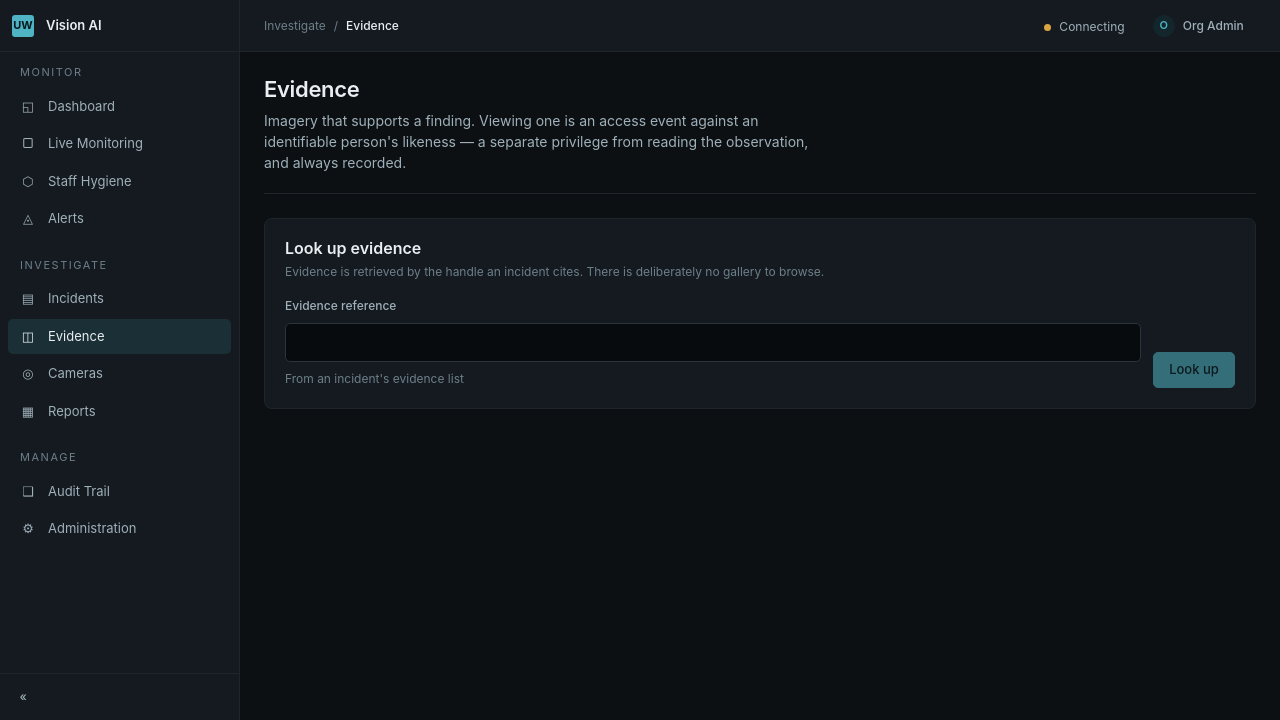
Test case: the evidence page › requires a reason before it will erase
In the field labelled "Evidence reference": point(713, 342) [285,323,1141,362], type "ev-1"
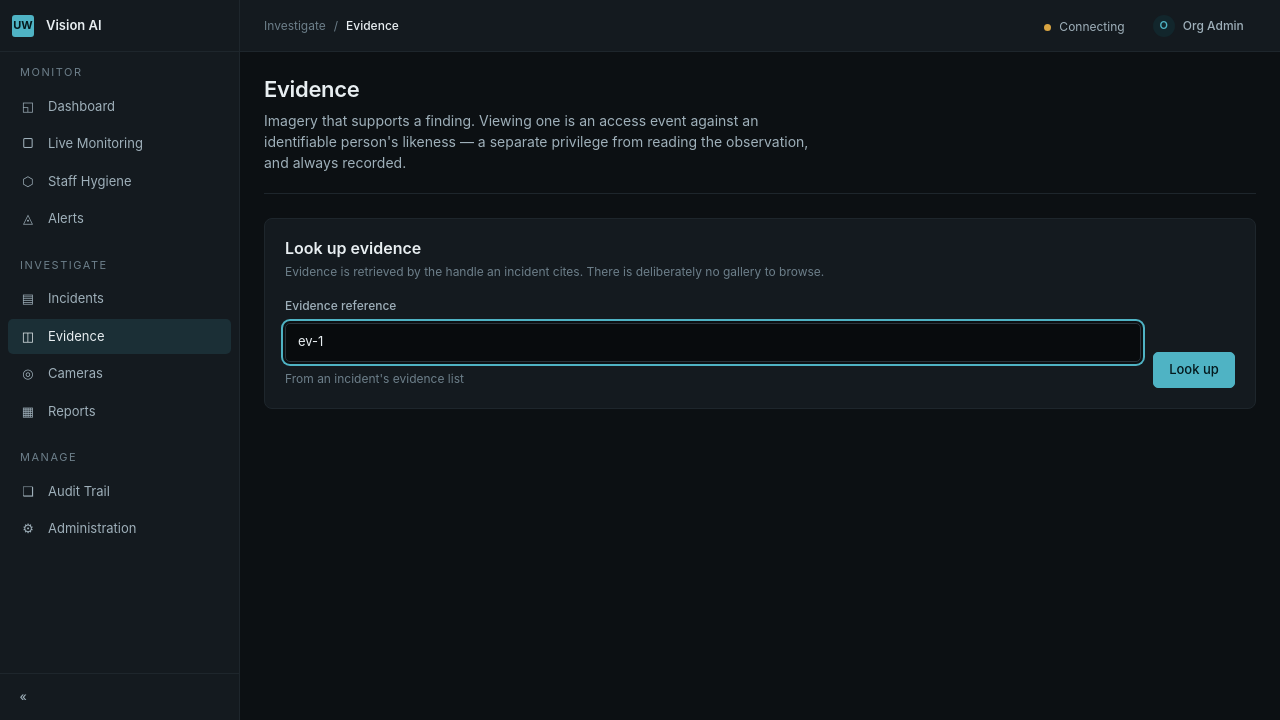
Click the button "Look up": point(1194, 370) [1153,352,1235,388]
(page scrolled)
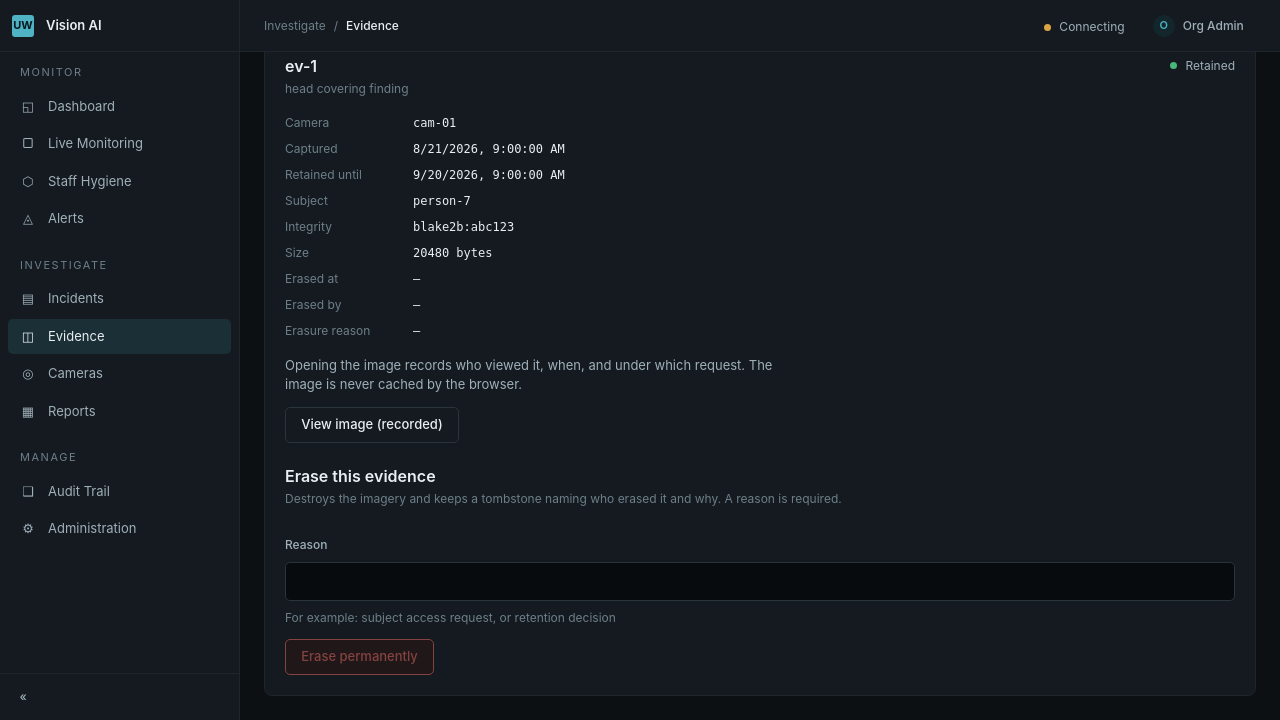
Result: the button "Erase permanently" is disabled at [285,639,434,675]
In the field labelled "Reason": point(760, 581) [285,562,1235,601], type "retention decision"
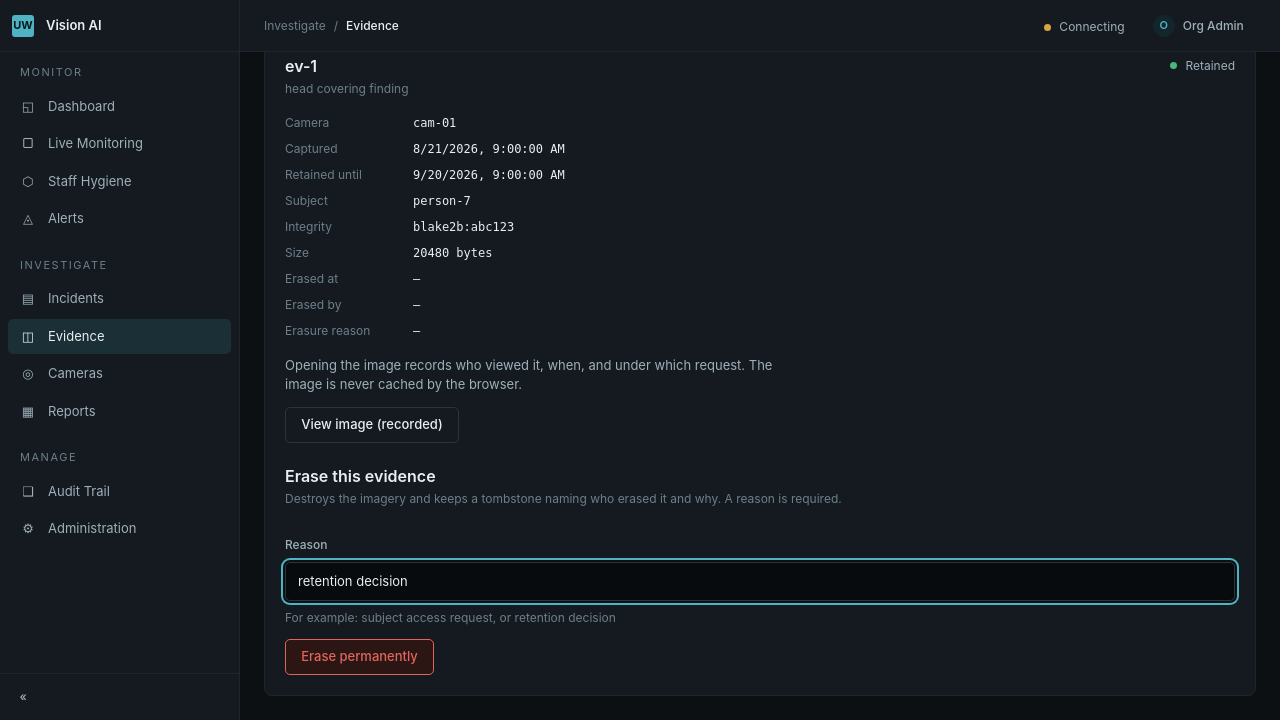
Result: the button "Erase permanently" is enabled at [285,639,434,675]
